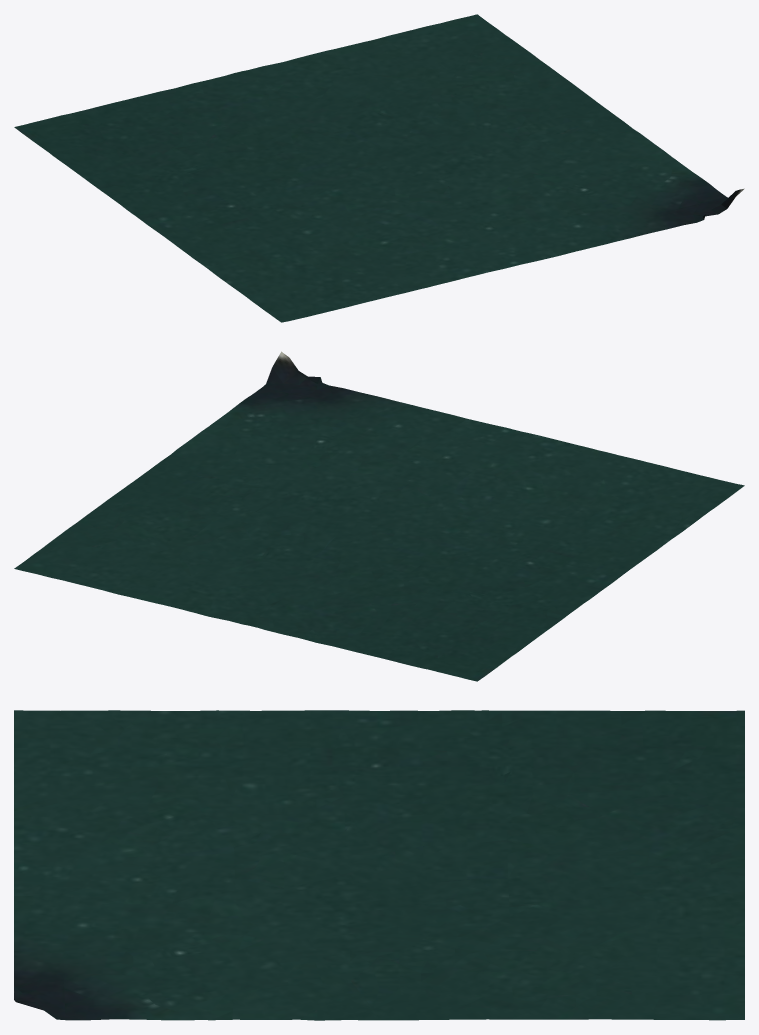
The picture shows the model from 3 angles, top to bottom: view 1: azimuth 30°, elevation 25°; view 2: azimuth 150°, elevation 25°; view 3: azimuth 270°, elevation 25°; orthographic projection. The views are drawn at different scales.
Bounding box in the file's own units: 104 × 4.85 × 104.
Materials: 3 (3 with a texture image).
